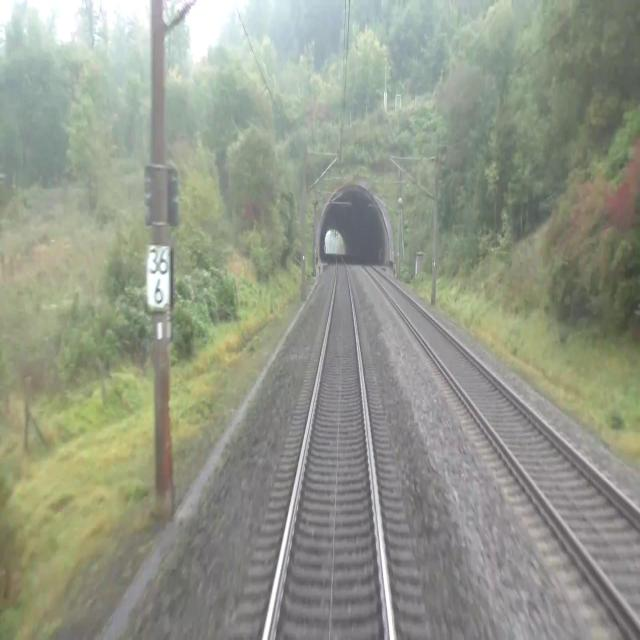rail-track: (267, 254, 390, 639)
